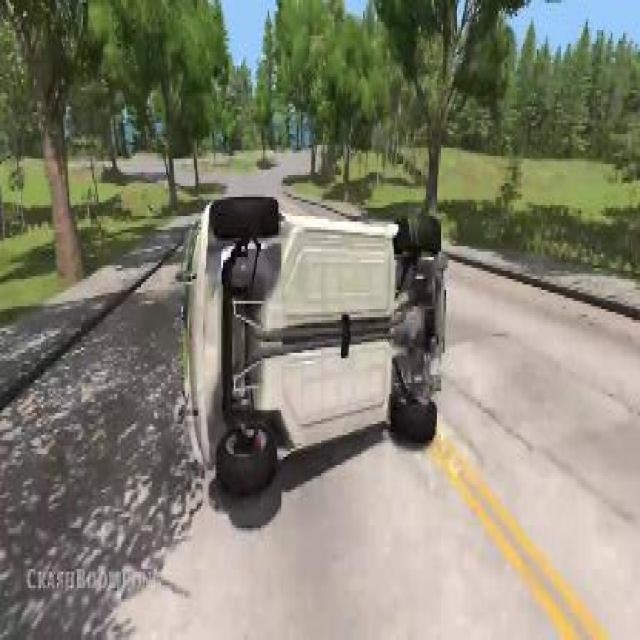accident: (177, 186, 451, 506)
